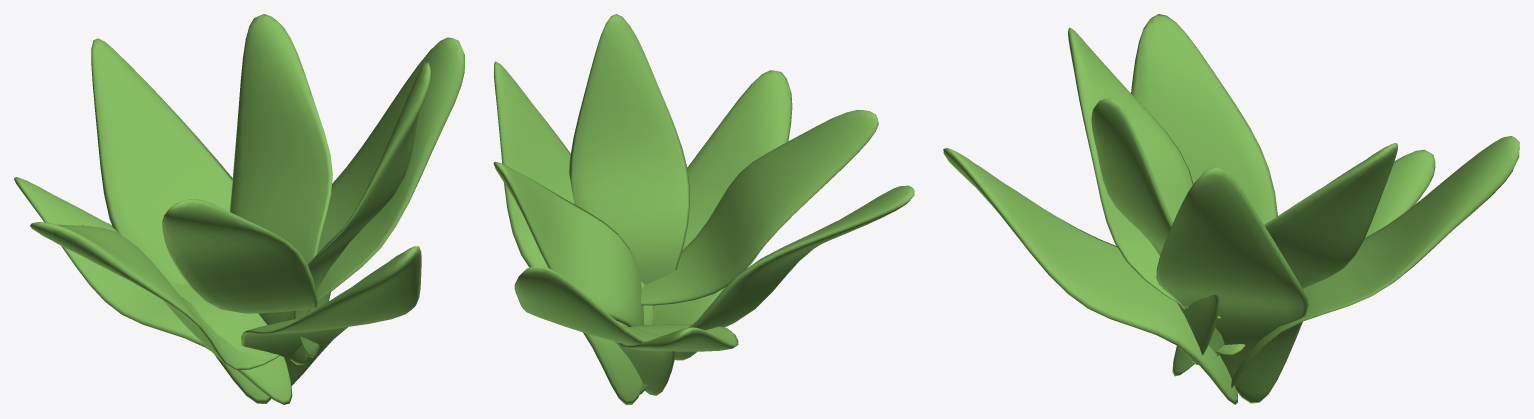
The model's file is PLANTAR MACETA PLANTA .fbx.
3 renders of one model, left to right at view 1: azimuth 30°, elevation 25°; view 2: azimuth 150°, elevation 25°; view 3: azimuth 270°, elevation 25°, orthographic. The views are drawn at different scales.
Parts seen in each view (by area): view 1: Plane.004; view 2: Plane.004; view 3: Plane.004.
Part boxes in pixels (box(x1,y1,x2,y2)): Plane.004: box(14, 14, 464, 404); Plane.004: box(493, 14, 914, 404); Plane.004: box(943, 14, 1519, 404).
Size of the model in its own units: 21.87 by 16.82 by 25.18.
